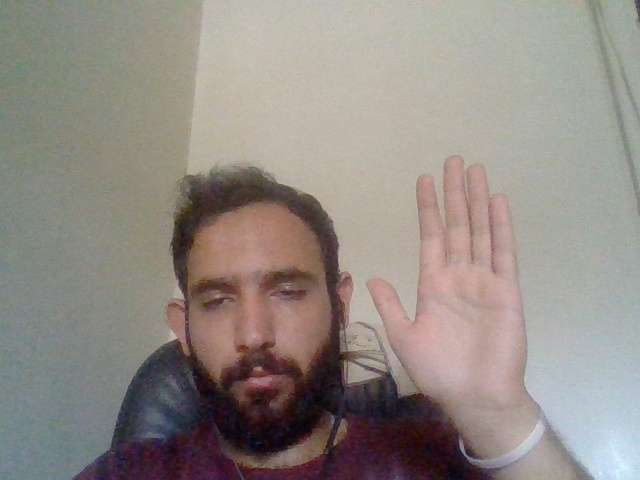Goodbye: (347, 151, 550, 407)
